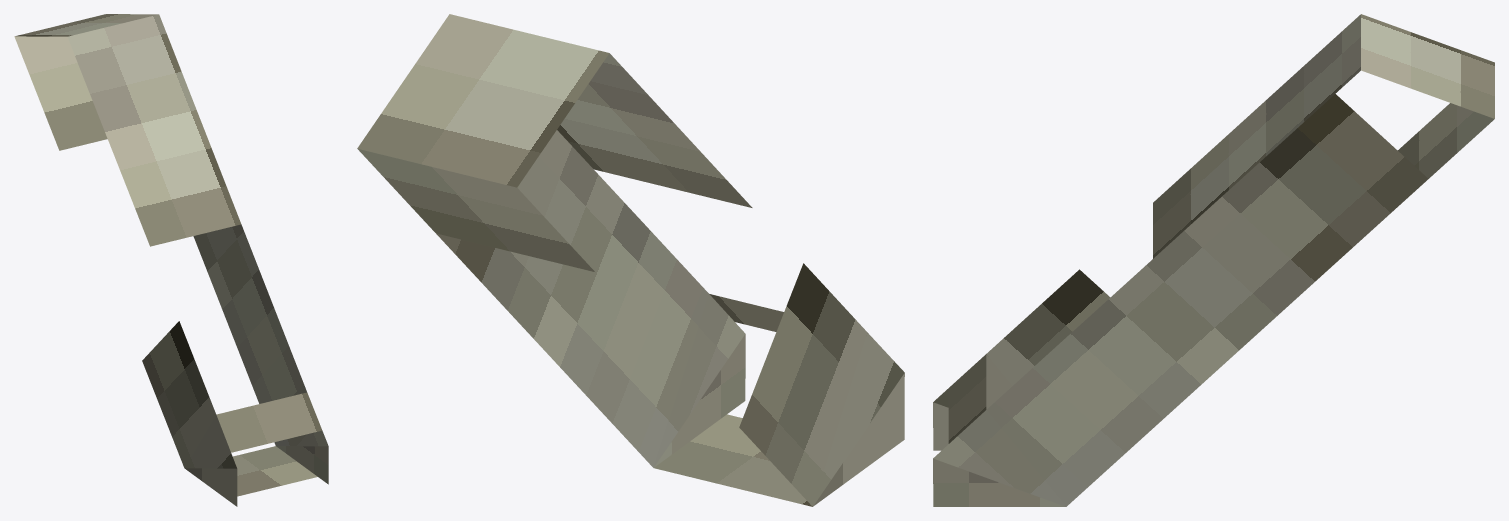
File: birch_thin_branch_45_straight.obj
The picture shows the model from 3 angles, left to right: view 1: azimuth 30°, elevation 25°; view 2: azimuth 150°, elevation 25°; view 3: azimuth 270°, elevation 25°; orthographic projection. The views are drawn at different scales.
Visible parts, largest first — view 1: cube; view 2: cube; view 3: cube.
Boxes of the visible parts, box(x1,y1,x2,y2) form: cube: box(14, 14, 328, 506); cube: box(357, 14, 904, 506); cube: box(933, 14, 1494, 506).
Bounding box in the file's own units: 0.3125 × 1.12 × 1.31.
